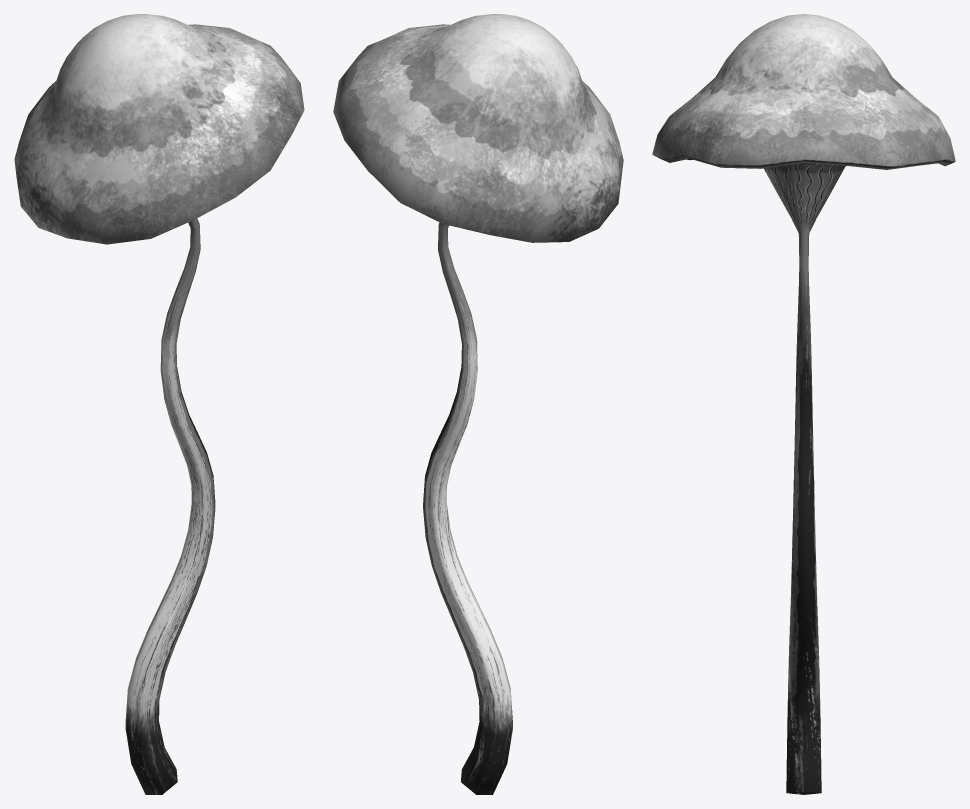
The model's file is Mushroom2A.fbx.
3 renders of one model, left to right at view 1: azimuth 30°, elevation 25°; view 2: azimuth 150°, elevation 25°; view 3: azimuth 270°, elevation 25°, orthographic.
Visible parts, largest first — view 1: polySurface1; view 2: polySurface1; view 3: polySurface1.
Boxes of the visible parts, x1,y1,x2,y2 form: polySurface1: [14, 14, 304, 794]; polySurface1: [333, 14, 623, 794]; polySurface1: [652, 14, 955, 794].
Size of the model in its own units: 16.21 by 48.89 by 17.49.
1 material, 1 textured.
